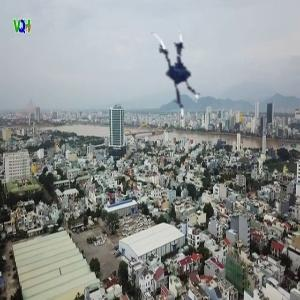drone: (125, 29, 215, 119)
